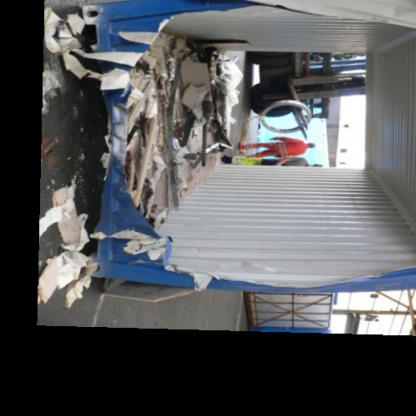Damage: (69, 0, 406, 300)
